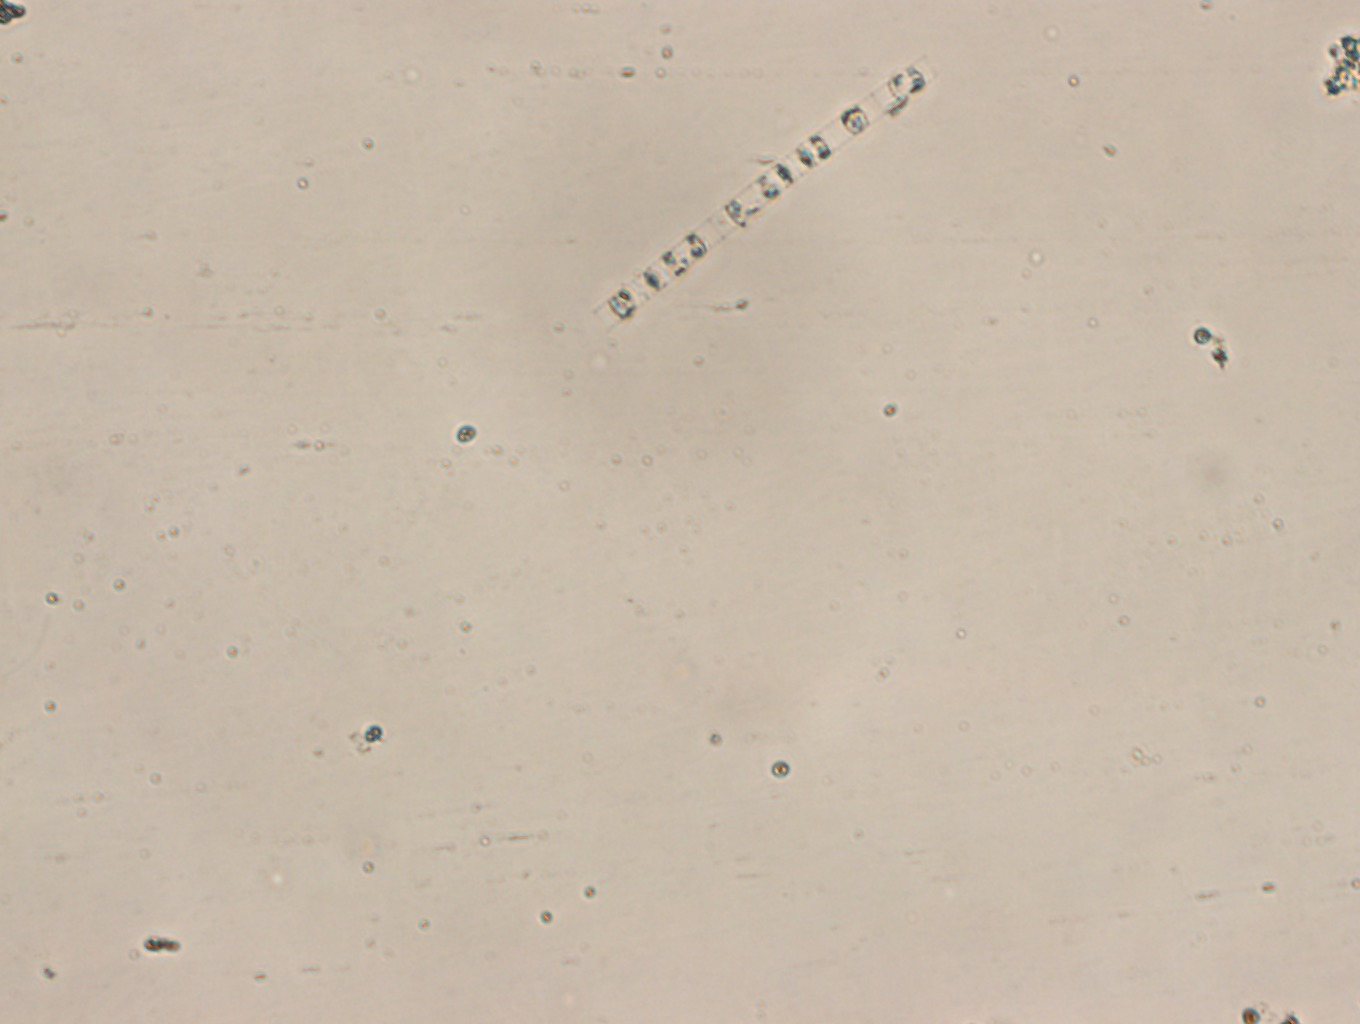skeletonema: (592, 61, 931, 328)
